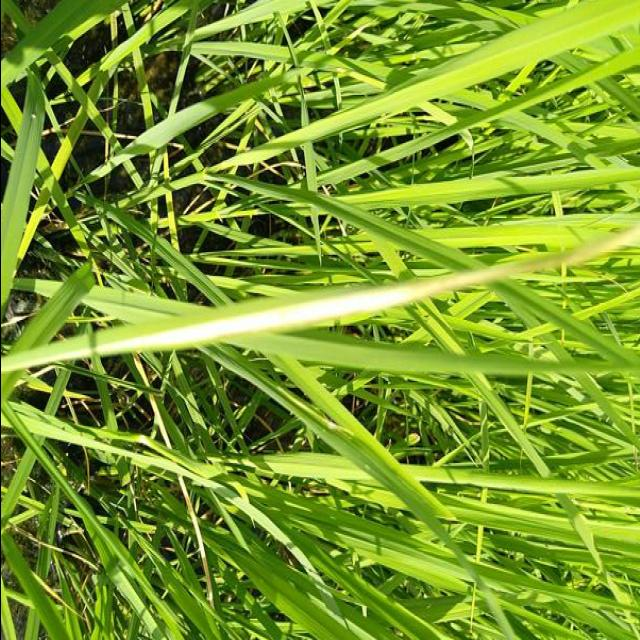Leaf Blight: (90, 227, 627, 355)
